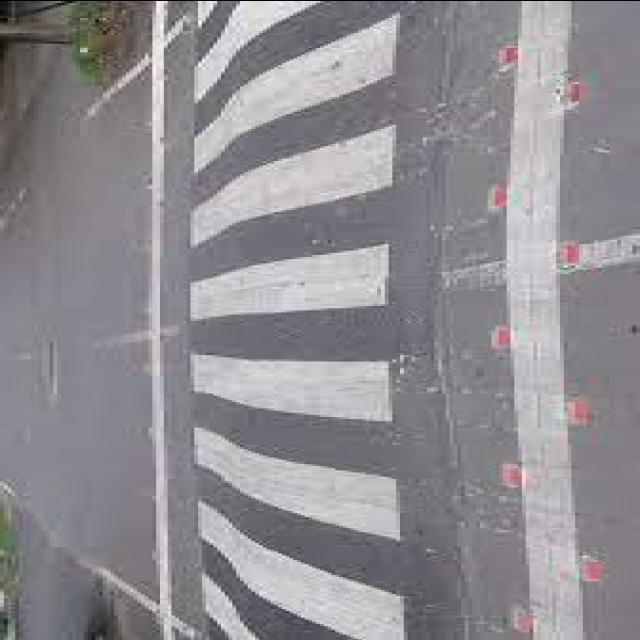speedbreaker: (186, 1, 450, 640)
